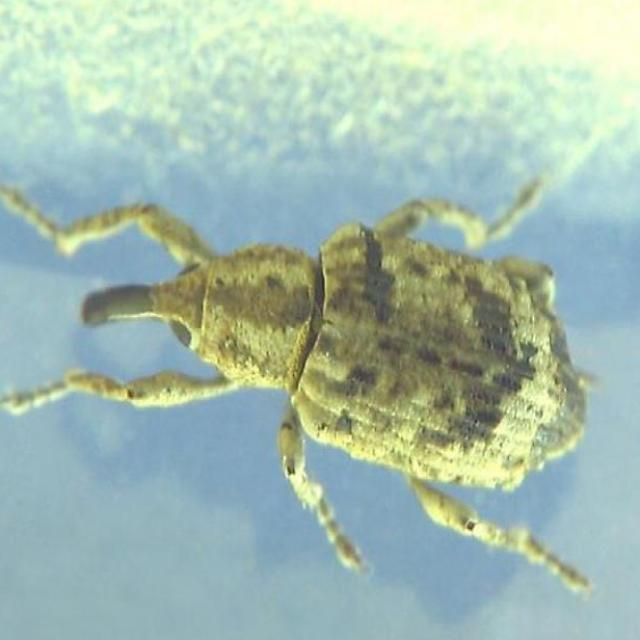ricebug: (0, 184, 590, 591)
